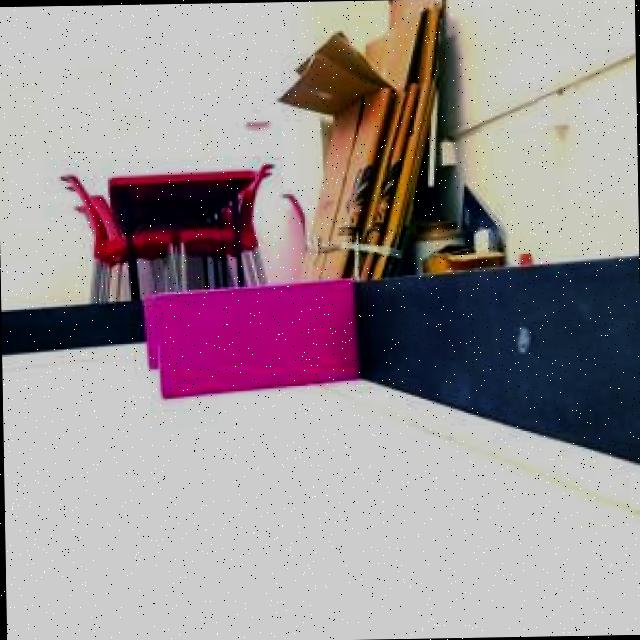xparking: (139, 274, 359, 400)
